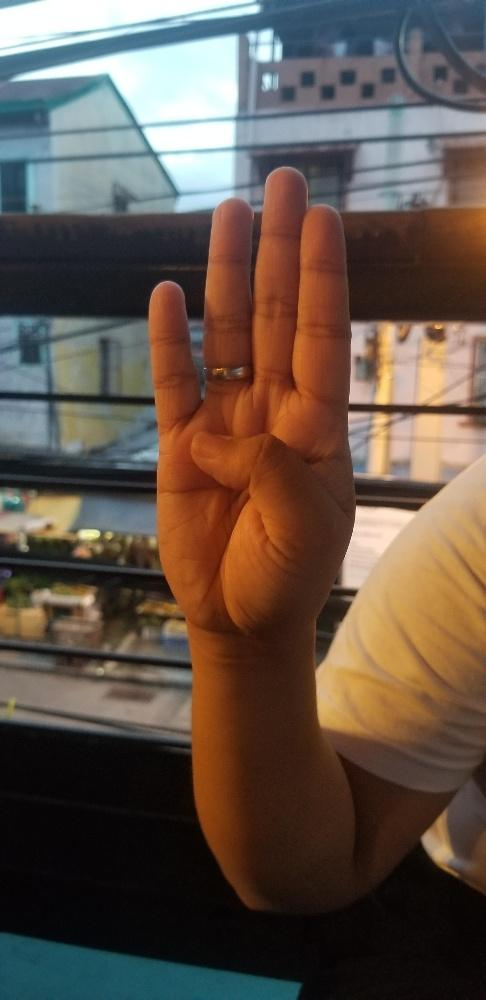b: (146, 160, 359, 632)
